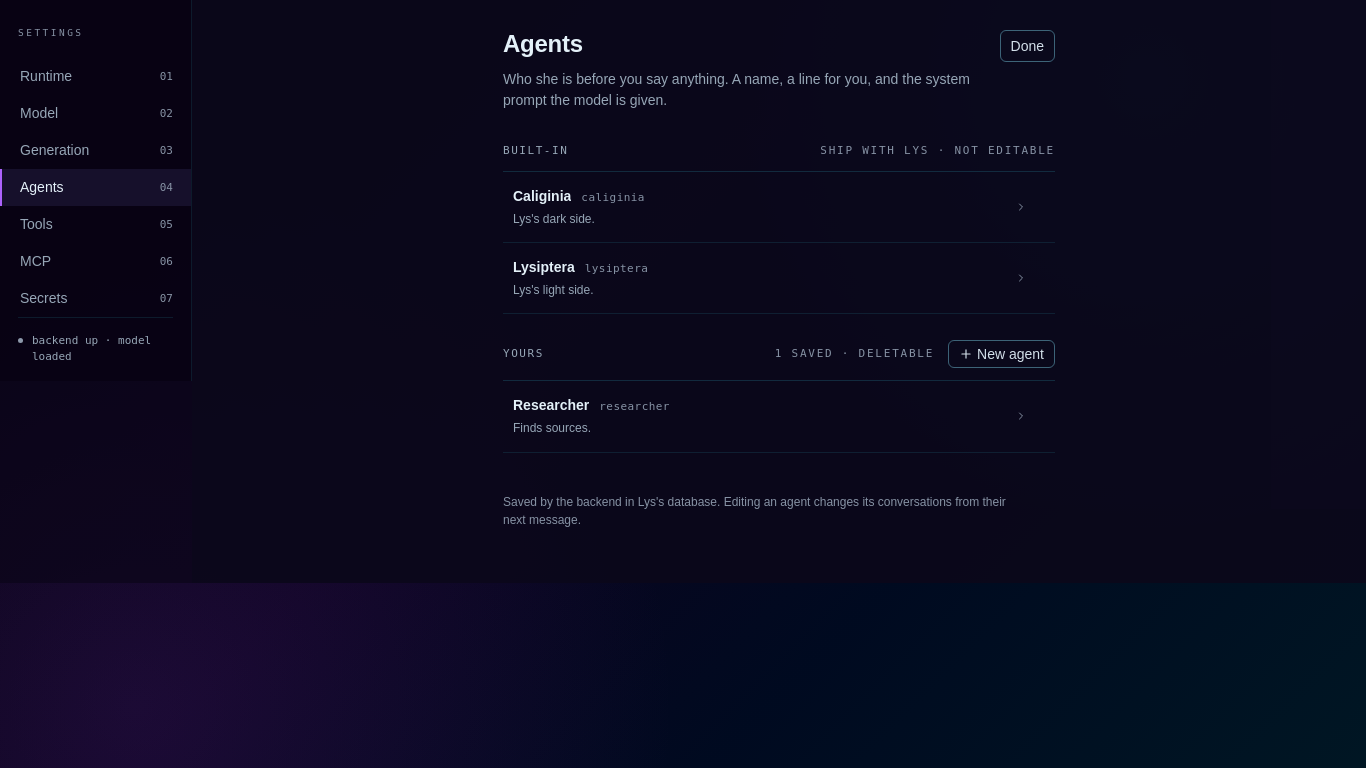
Scenario: AgentEditor › a new agent › starts on the name field of an empty form whose code is assigned on save
Expected: the text "Saved by the backend in Lys's database" is shown, [503,495,1006,527]
Click the button "New agent". click: coordinates (1002, 354)
box: [948,340,1055,368]
(page scrolled)
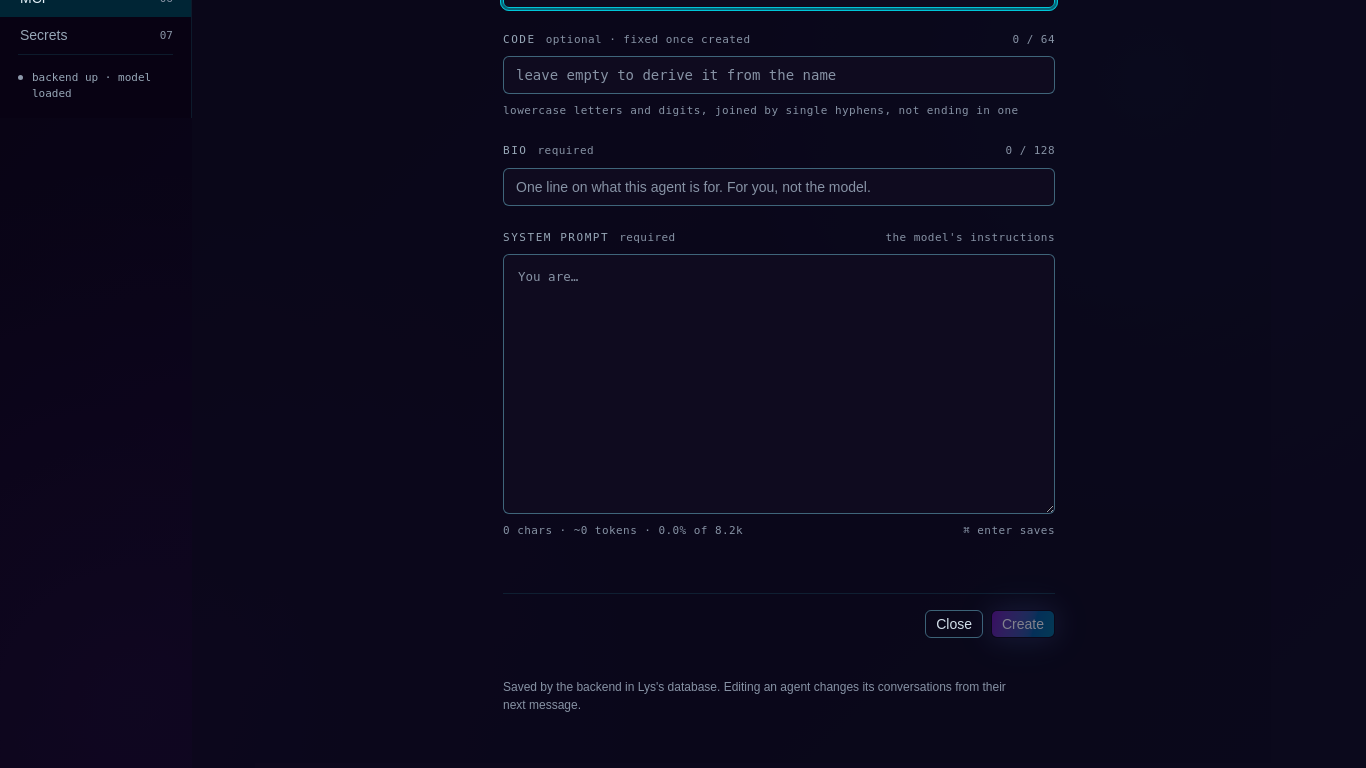
Expected: the button "Close" is enabled, [925,610,983,638]
Result: the button "Create" is disabled at [991,610,1055,638]
